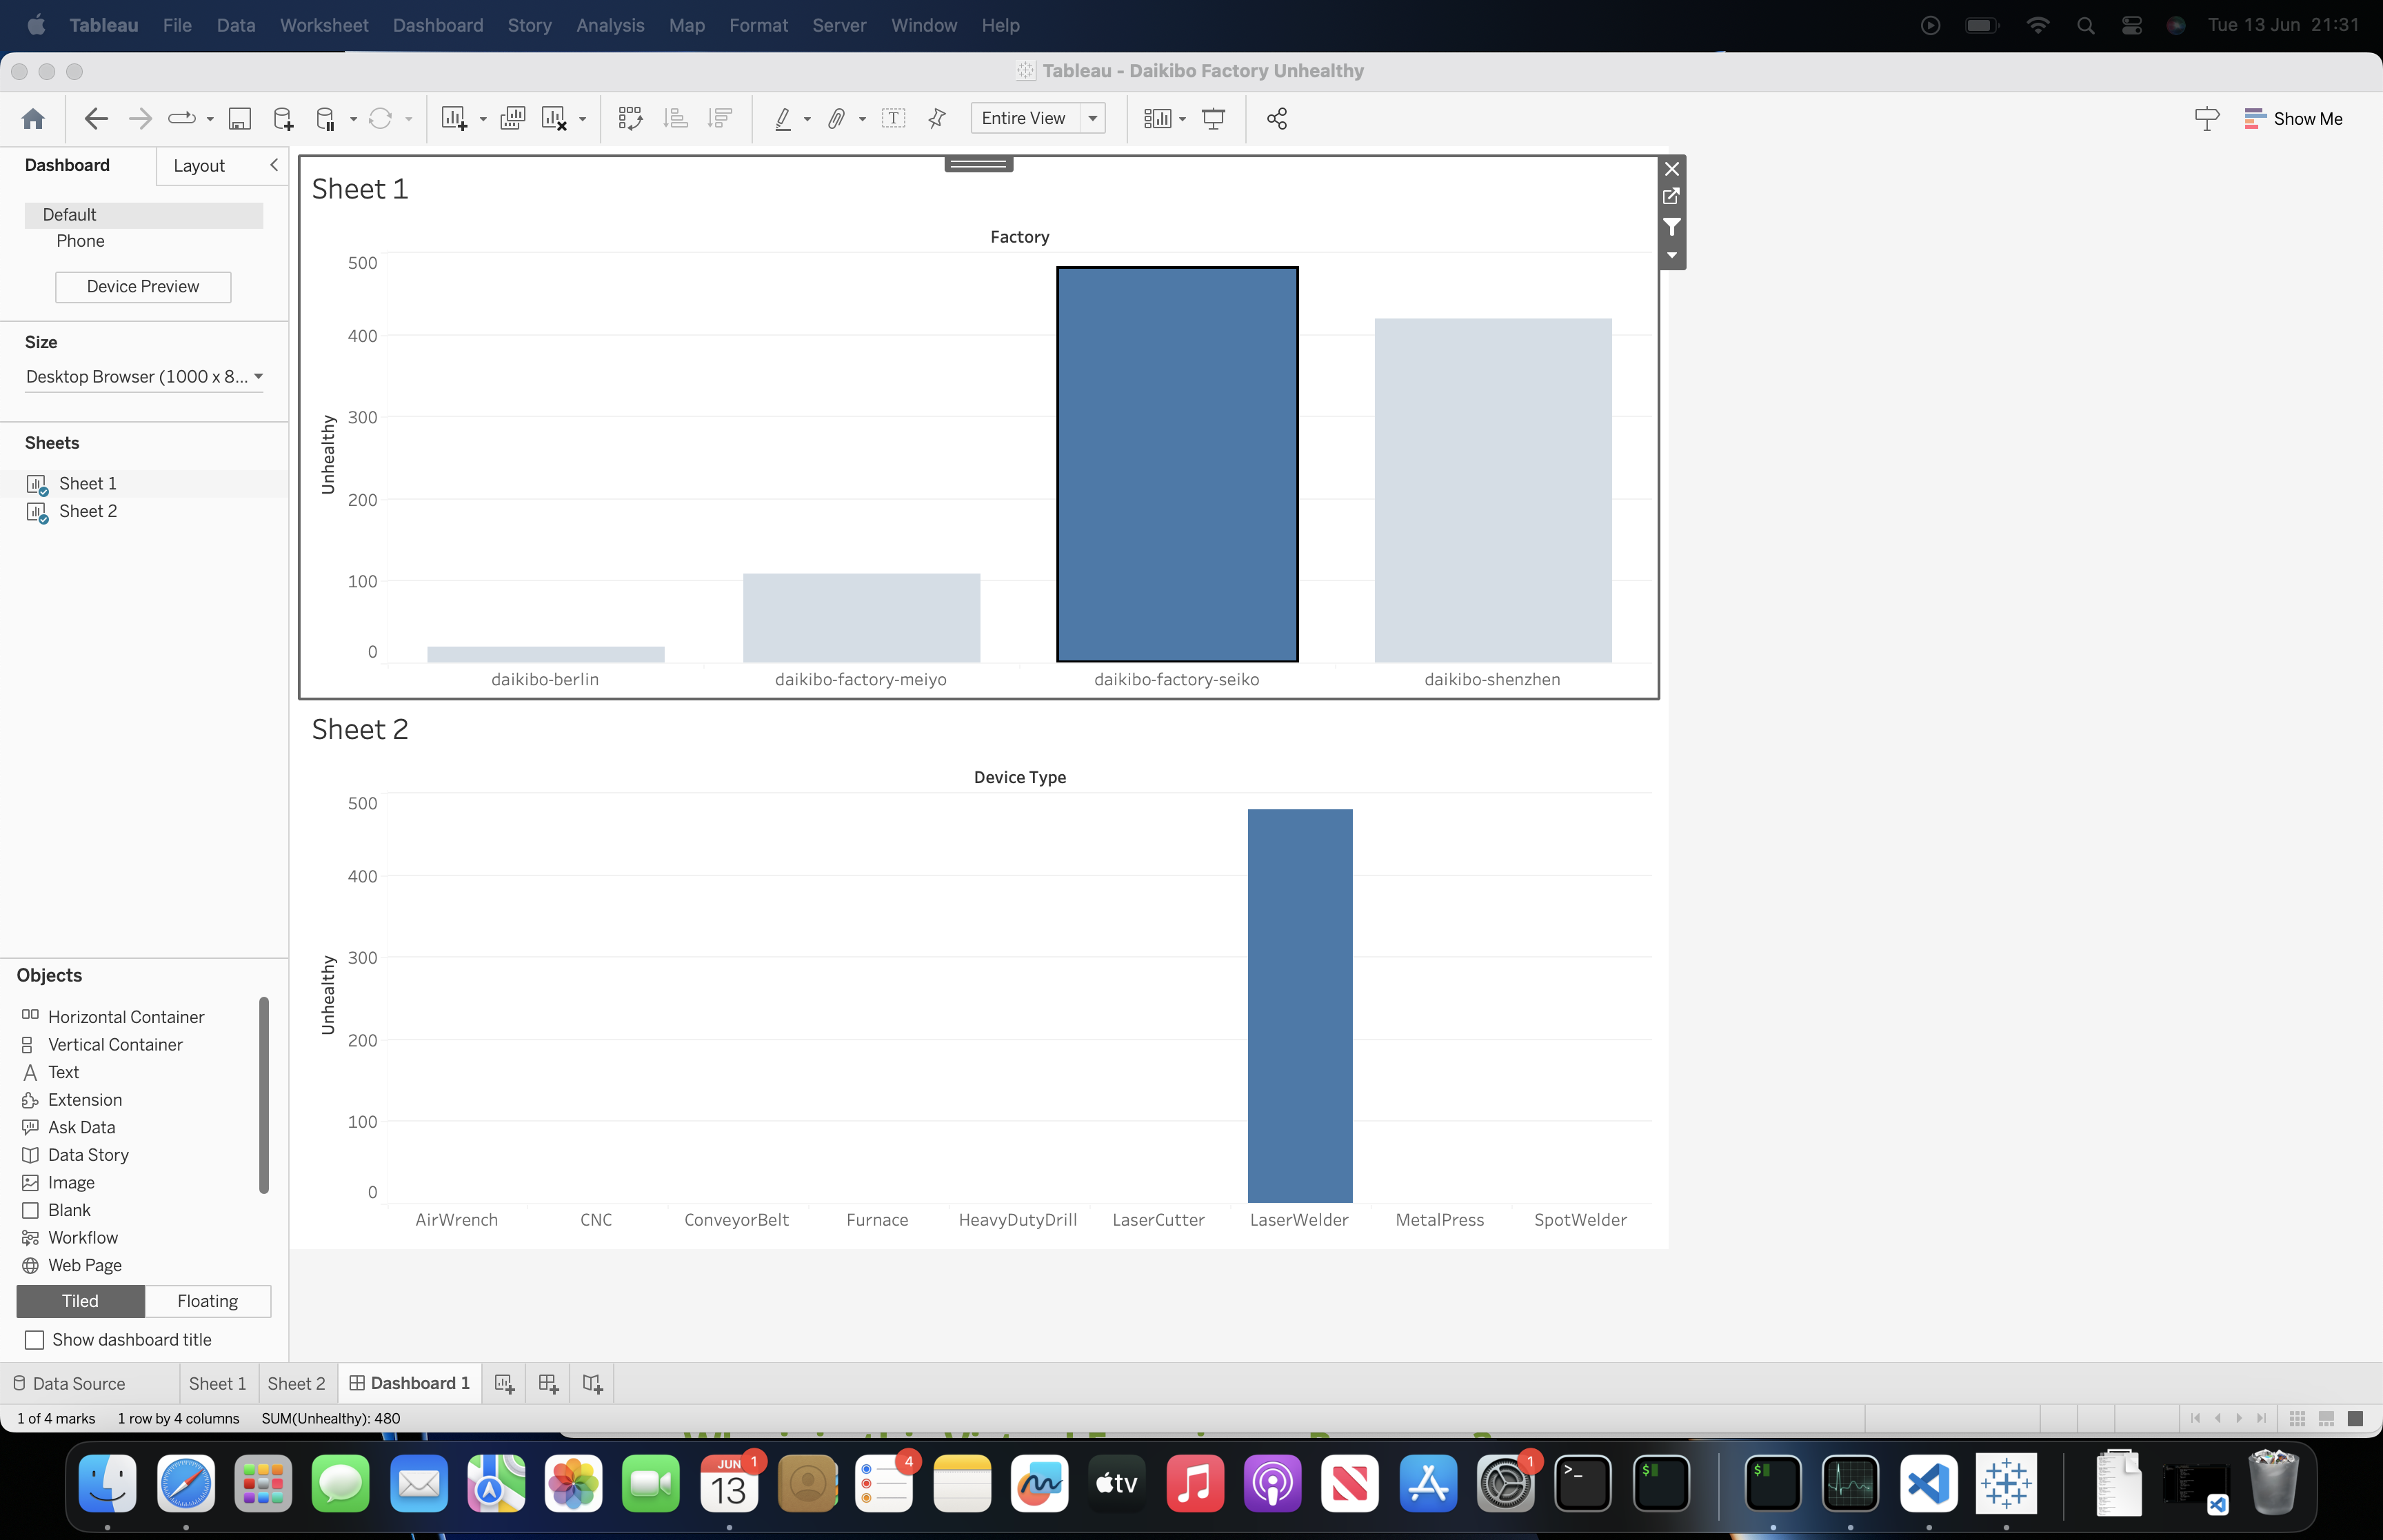

What the dashboard file says about the page in this screenshot:
{"tool":"tableau","page":{"name":"Dashboard 1","canvas":[1000,800],"ordinal":0},"visuals":[{"type":"worksheet","title":"Sheet 1","mark":"Automatic","rows":["Calculation_5347532013014855680"],"cols":["factory"],"box":[8,8,984,392]},{"type":"worksheet","title":"Sheet 2","mark":"Automatic","rows":["Calculation_5347532013014855680"],"cols":["deviceType"],"box":[8,400,984,392]}]}

Visuals, with their boxes on the page's 1000x800 design canvas (x1, y1, x2, y2). These are canvas units, not pixel positions in the 2383x1540 screenshot, which may show the page scaled, cropped or inside an application window:
"Sheet 1" worksheet: (left=8, top=8, right=992, bottom=400)
"Sheet 2" worksheet: (left=8, top=400, right=992, bottom=792)
